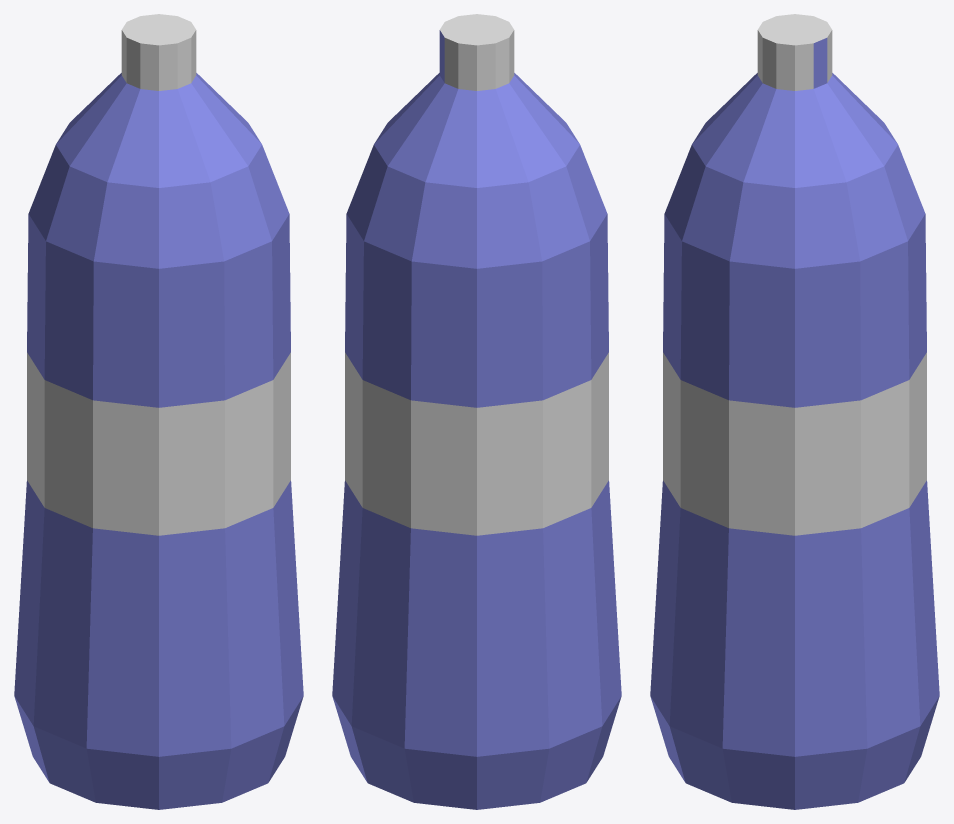
File: Bottle (1).fbx
3 views of the same model, side by side, from view 1: azimuth 30°, elevation 25°; view 2: azimuth 150°, elevation 25°; view 3: azimuth 270°, elevation 25° (orthographic).
Visible parts, largest first — view 1: Cylinder.001; view 2: Cylinder.001; view 3: Cylinder.001.
Boxes of the visible parts, x1=… form: Cylinder.001: x1=14, y1=14, x2=303, y2=809; Cylinder.001: x1=332, y1=14, x2=621, y2=809; Cylinder.001: x1=650, y1=14, x2=939, y2=809.
Bounding box in the file's own units: 9.6 × 26.59 × 9.6.
